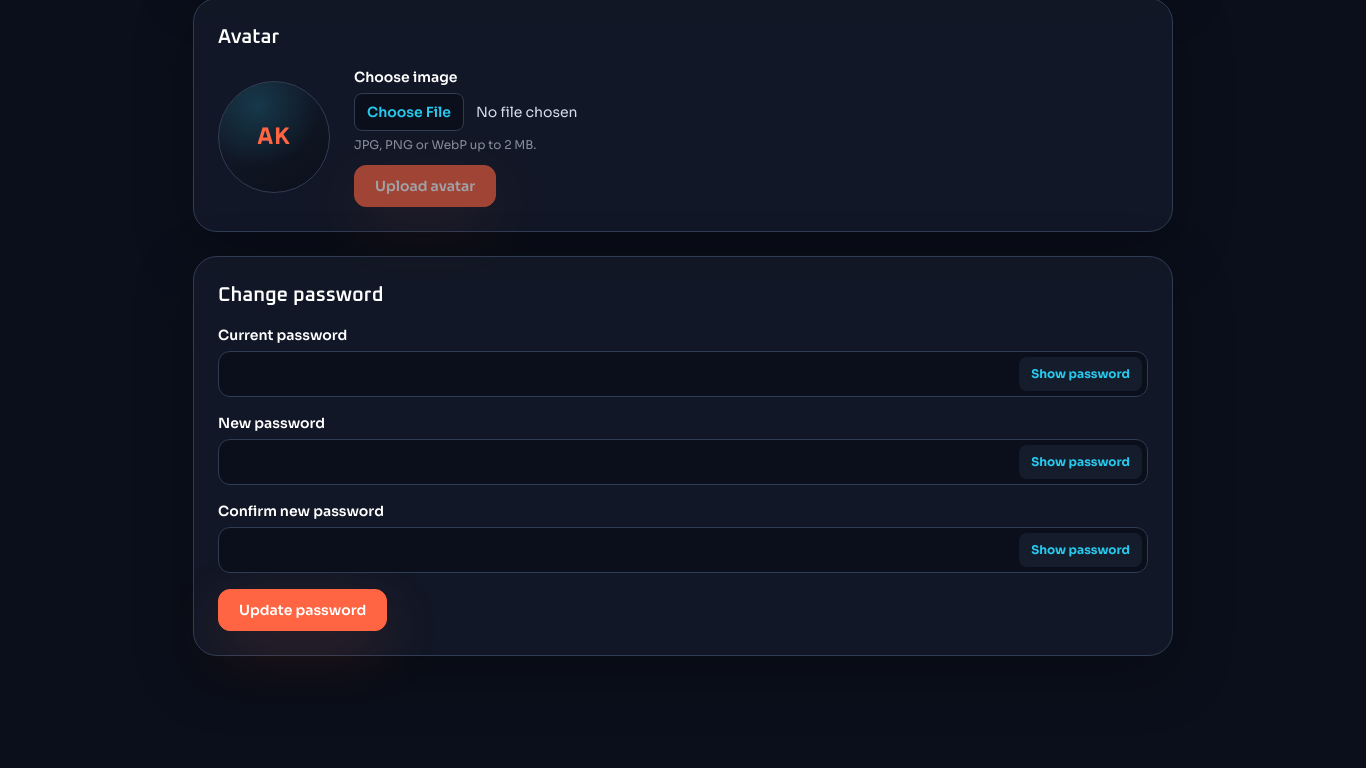
Scenario: EditProfilePage › validates the password form and submits the contract payload
(page scrolled)
Click the button "Update password": [303, 610] box [218,589,387,631]
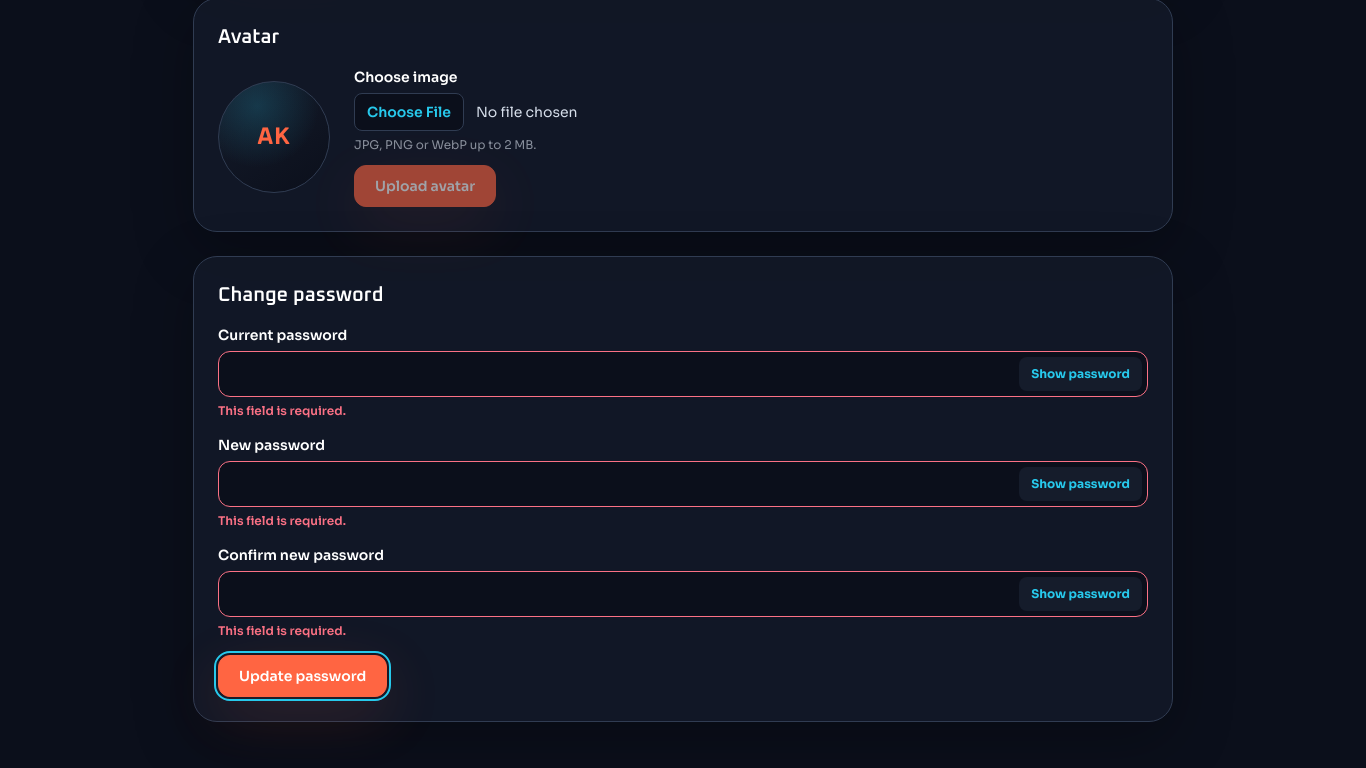
In the password field labelled "Current password": [683, 374] box [218,351,1148,397], type "oldpassword"
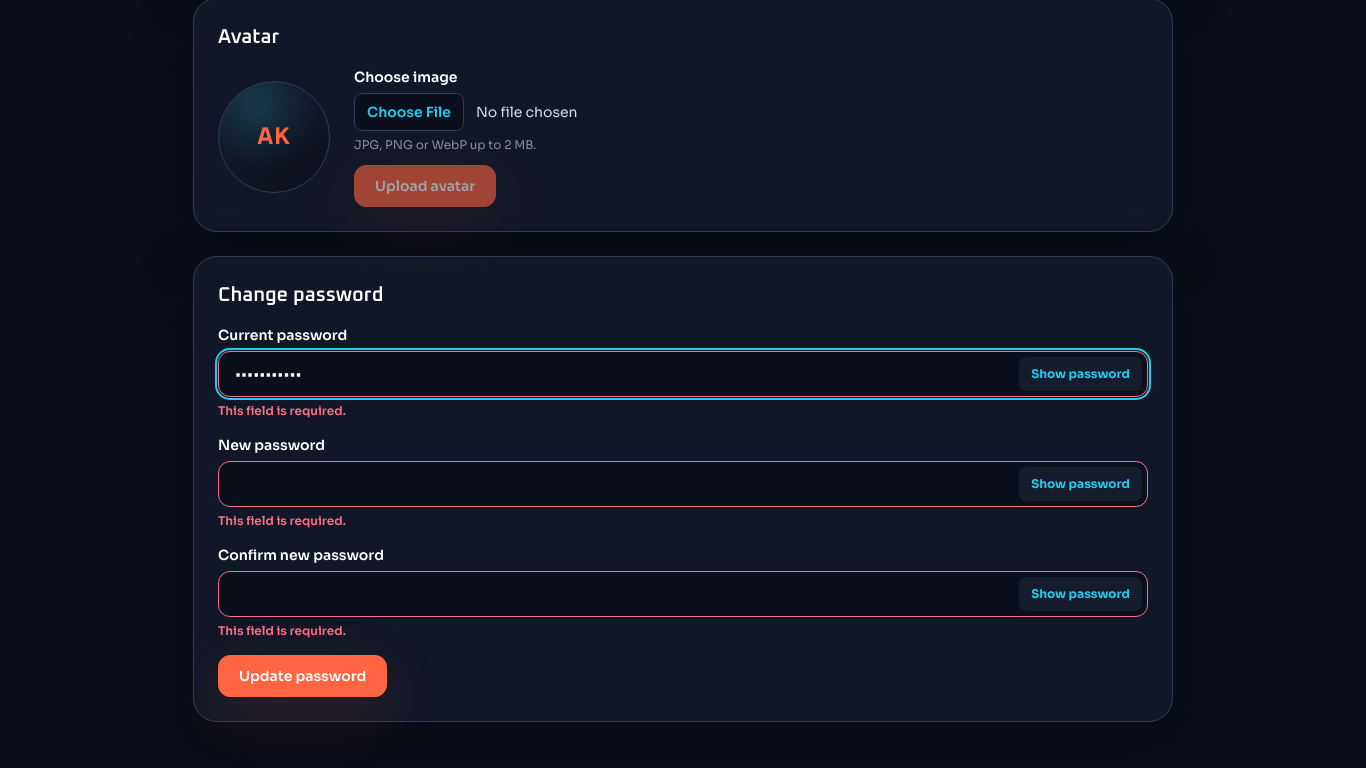
In the password field labelled "New password": [683, 484] box [218,461,1148,507], type "newpassword1"
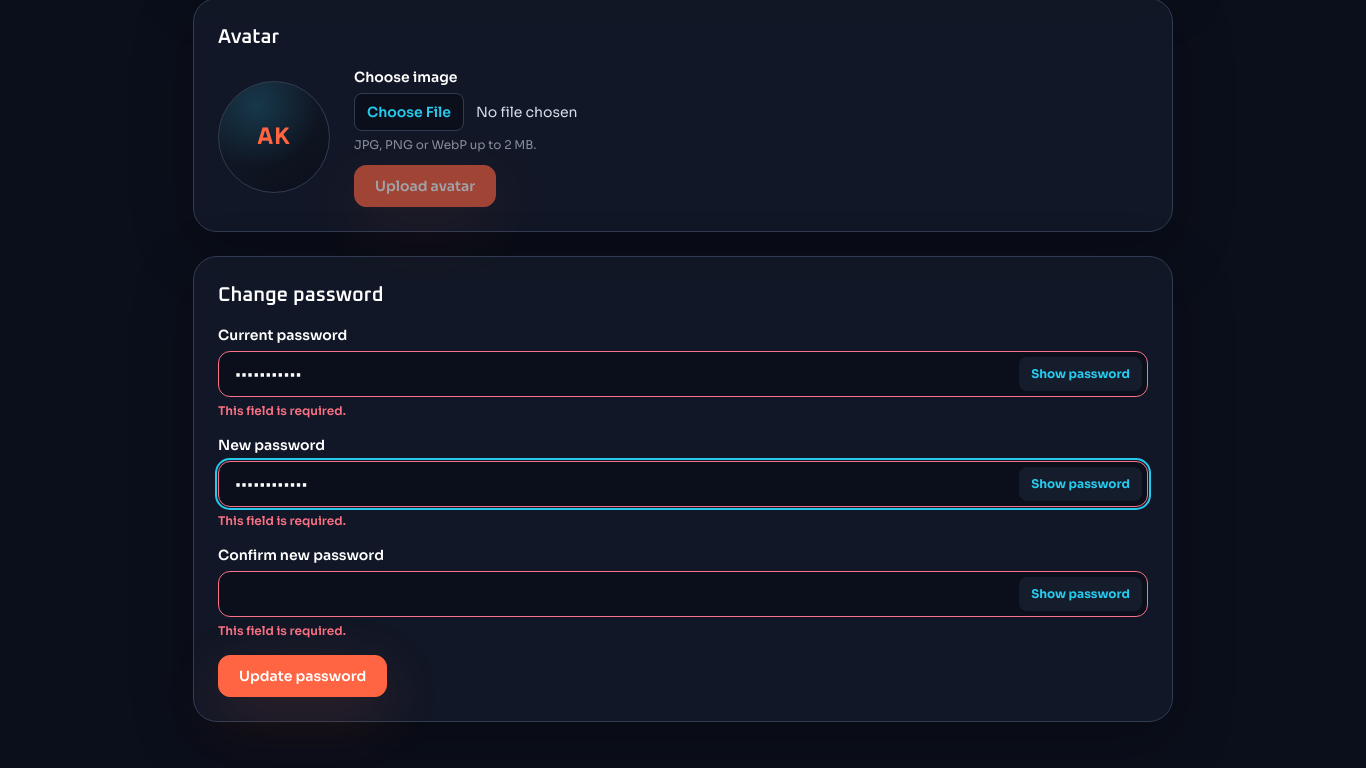
In the password field labelled "Confirm new password": [683, 594] box [218,571,1148,617], type "newpassword1"
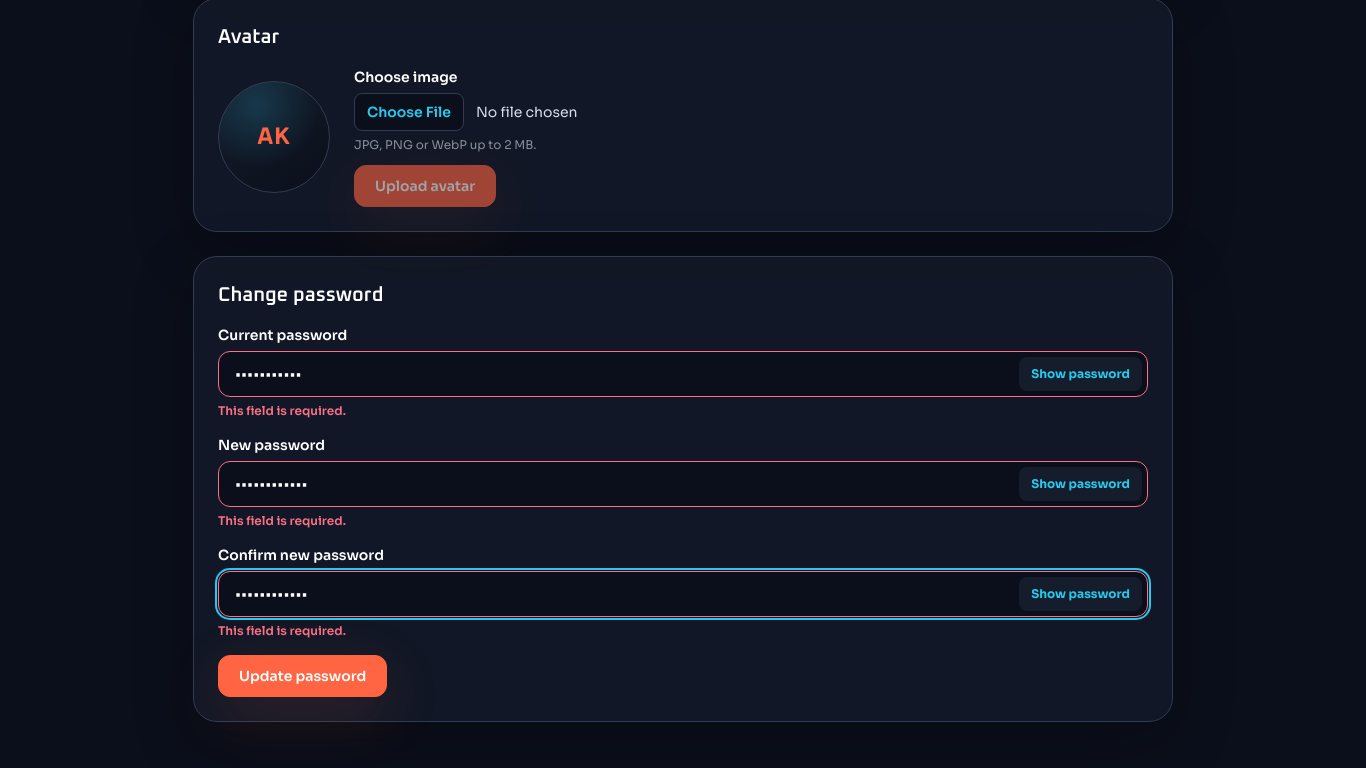
Click the button "Update password": [303, 676] box [218,655,387,697]
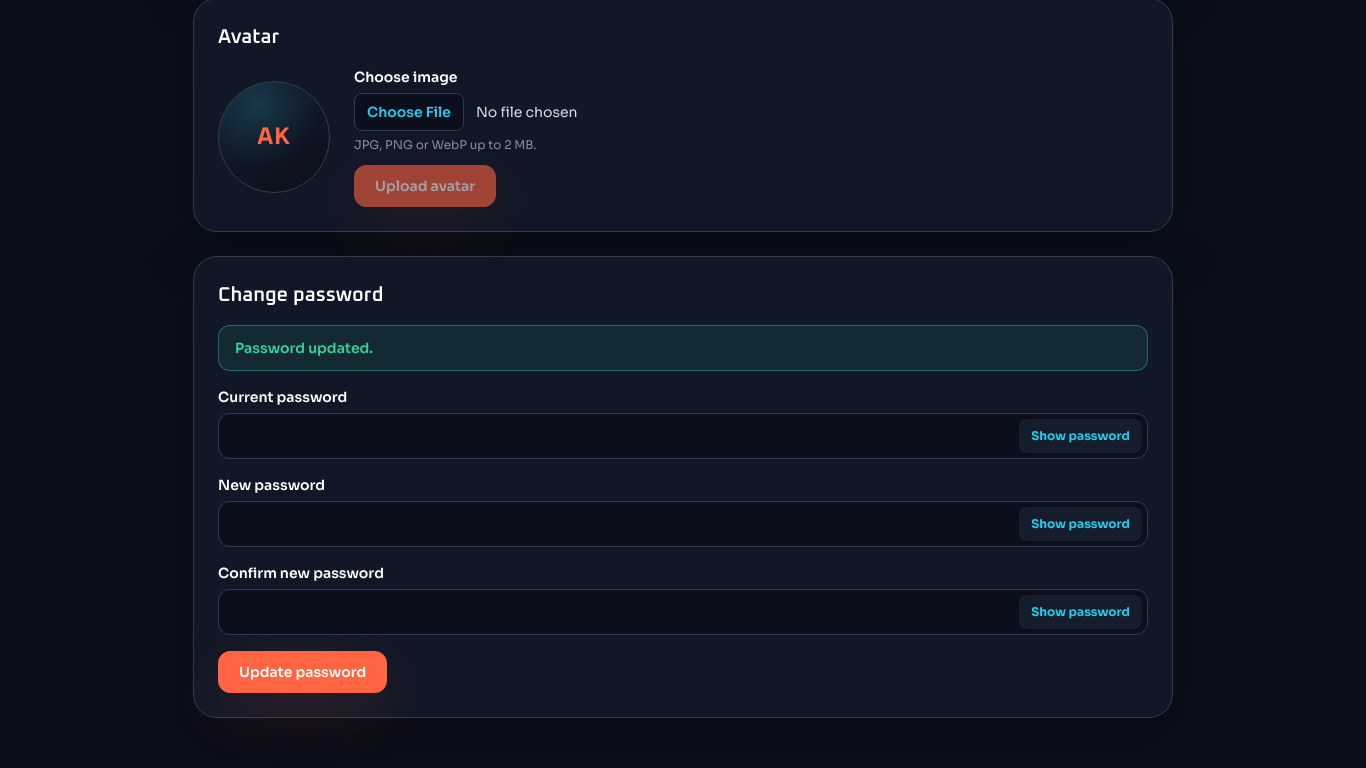
Expected: the text "Password updated." is shown, [218,325,1148,371]
Expected: the password field labelled "Current password" is empty, [218,413,1148,459]
